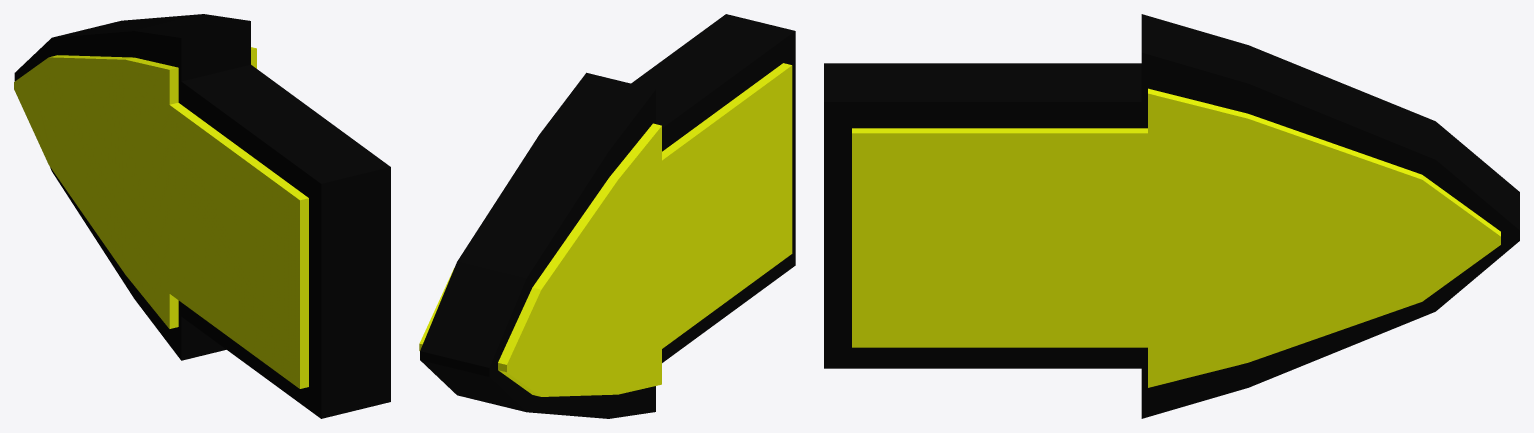
File: Arrow.fbx
The picture shows the model from 3 angles, left to right: view 1: azimuth 30°, elevation 25°; view 2: azimuth 150°, elevation 25°; view 3: azimuth 270°, elevation 25°; orthographic projection. The views are drawn at different scales.
Visible parts, largest first — view 1: Cube.002; view 2: Cube.002; view 3: Cube.002.
Part boxes in pixels (x1,y1,x2,y2): Cube.002: (14,14,390,418); Cube.002: (419,14,795,418); Cube.002: (824,14,1519,418).
Size of the model in its own units: 54.09 by 190 by 328.
1 material, 1 textured.
